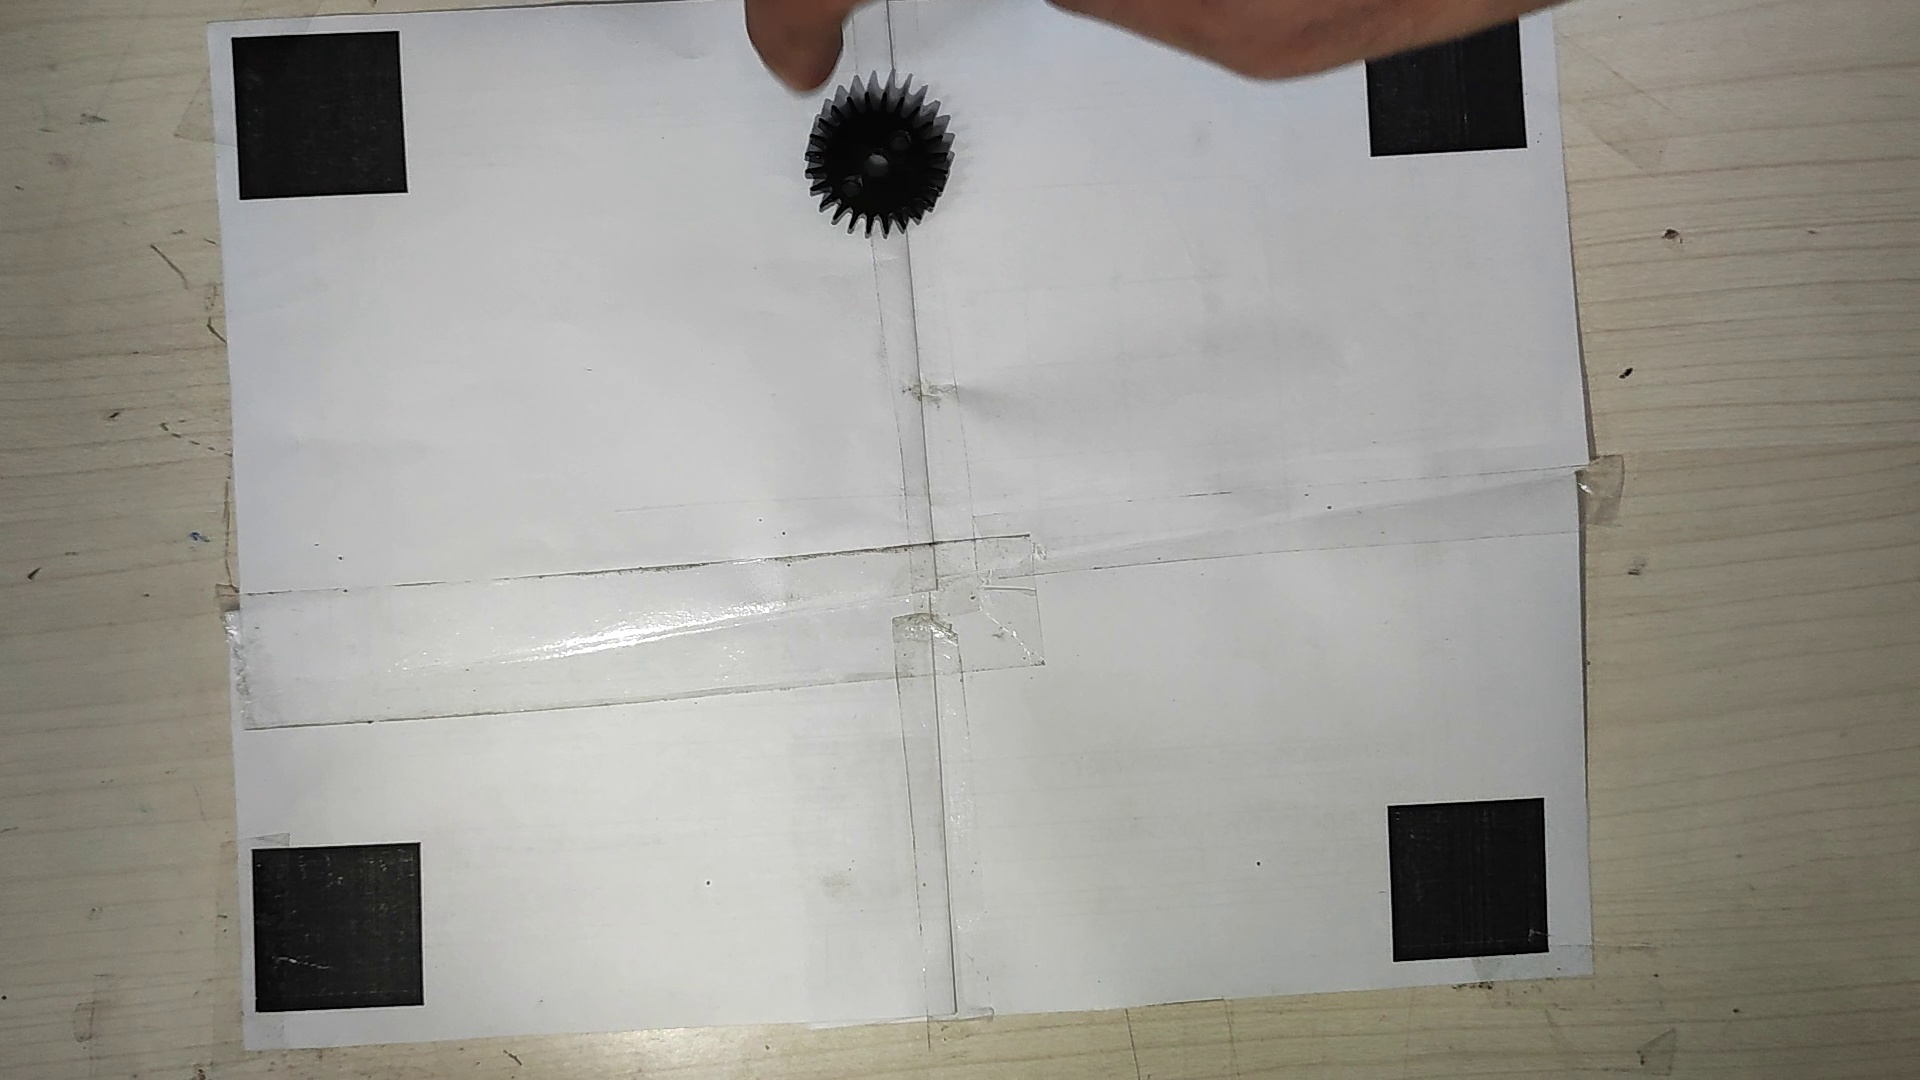Gear: (798, 69, 959, 241)
